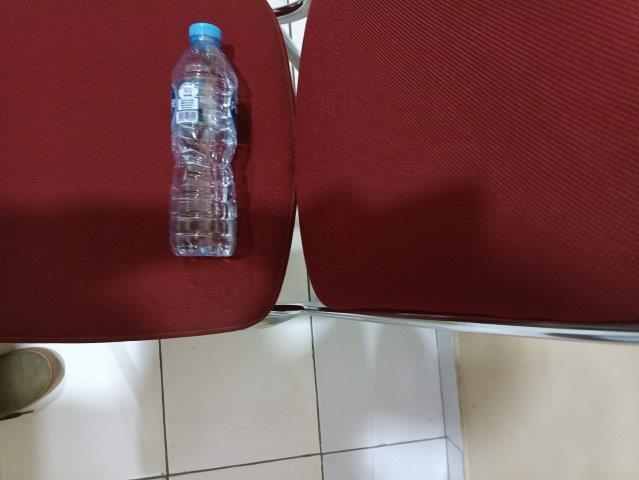botolplastik: (169, 21, 238, 256)
